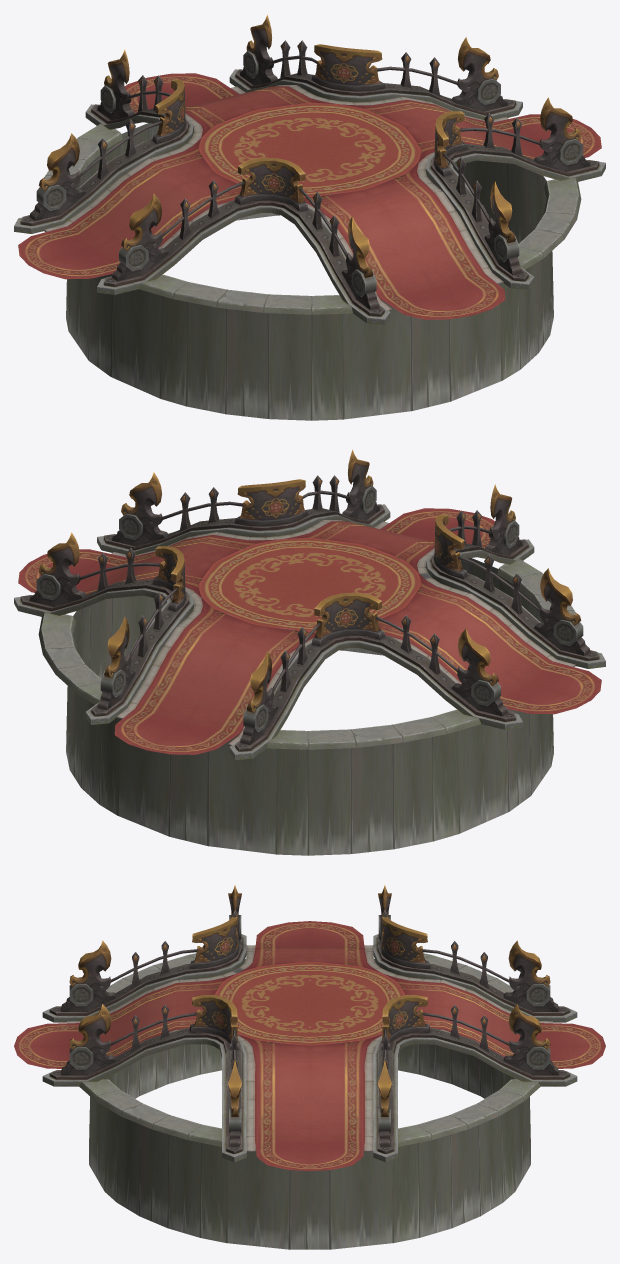
The model's file is cj_luoyang_yuantai001_55_31_1102out.fbx.
3 views of the same model, one above another, from view 1: azimuth 30°, elevation 25°; view 2: azimuth 150°, elevation 25°; view 3: azimuth 270°, elevation 25° (orthographic). The views are drawn at different scales.
Parts seen in each view (by area): view 1: cj_luoyang_yuantai001; view 2: cj_luoyang_yuantai001; view 3: cj_luoyang_yuantai001.
Part boxes in pixels (left/top/right/bottom): cj_luoyang_yuantai001: left=14, top=14, right=605, bottom=420; cj_luoyang_yuantai001: left=14, top=449, right=605, bottom=855; cj_luoyang_yuantai001: left=14, top=885, right=605, bottom=1249.
Size of the model in its own units: 20.22 by 7.32 by 20.22.
